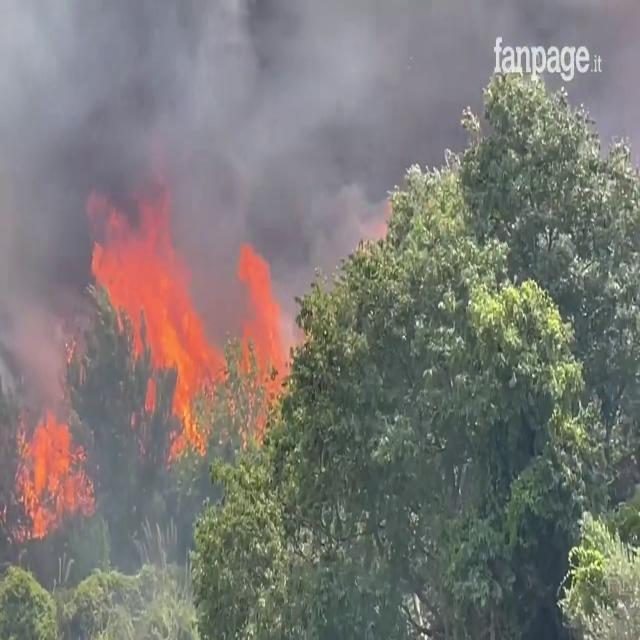Fire: (91, 184, 217, 440), (10, 398, 96, 544)
Smoke: (0, 0, 468, 313)
